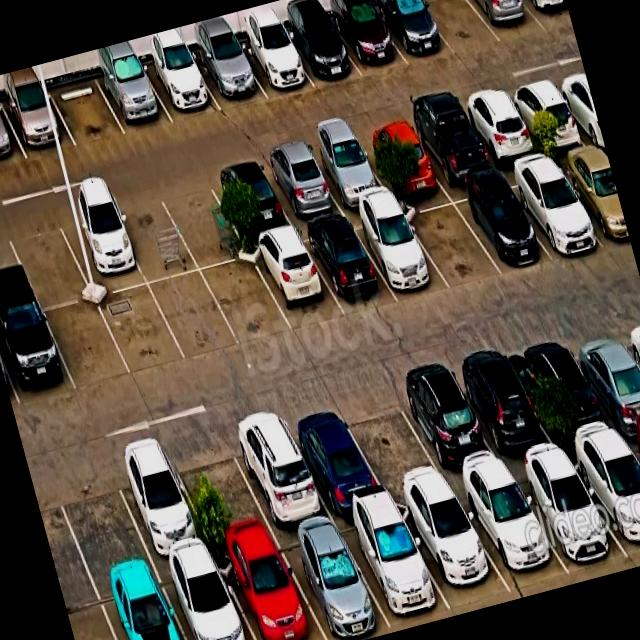car: (414, 496, 504, 618), (352, 510, 440, 634), (474, 478, 560, 602), (236, 434, 326, 550), (534, 461, 617, 586), (290, 527, 380, 640), (122, 466, 209, 579), (406, 378, 491, 493), (303, 421, 383, 537), (524, 338, 602, 454), (464, 362, 544, 472), (225, 544, 316, 640), (522, 158, 600, 268), (468, 173, 543, 280), (364, 201, 440, 306), (61, 194, 139, 294), (418, 98, 492, 202), (365, 106, 437, 210), (313, 212, 385, 316), (95, 36, 166, 140), (256, 232, 330, 329), (210, 156, 286, 250), (516, 72, 586, 174), (468, 88, 538, 189), (192, 11, 259, 110), (588, 444, 640, 571), (239, 0, 305, 100), (144, 26, 212, 122), (580, 331, 640, 439), (168, 564, 253, 640), (0, 311, 69, 404), (284, 0, 353, 90), (314, 129, 381, 220), (0, 63, 65, 155), (102, 580, 195, 640), (268, 143, 332, 230), (332, 0, 398, 77), (376, 0, 442, 64), (458, 0, 526, 35), (0, 76, 16, 171)
free: (60, 472, 150, 594), (182, 447, 266, 561), (353, 403, 439, 511), (413, 195, 492, 293), (48, 49, 120, 151), (120, 184, 190, 286), (100, 278, 174, 374), (49, 298, 124, 392), (170, 169, 241, 266), (11, 222, 85, 312), (206, 252, 276, 344), (155, 266, 224, 354), (418, 0, 486, 52)
